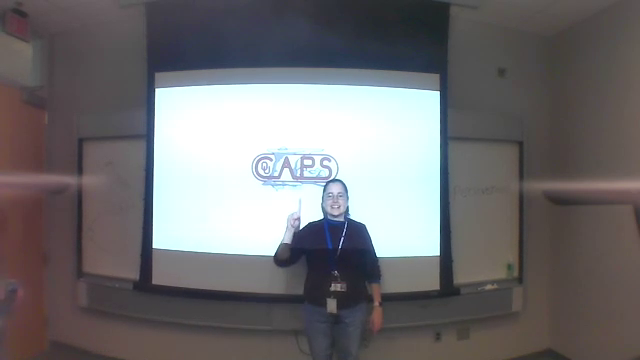up: (285, 195, 305, 233)
